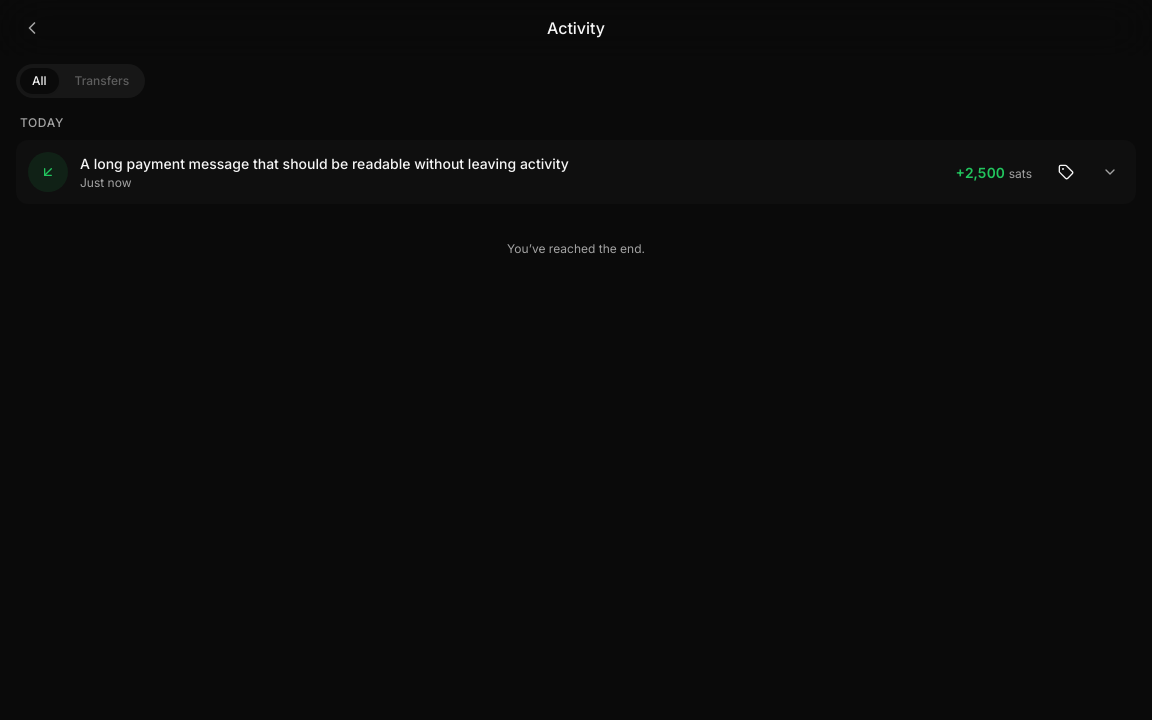
Test: ActivityScreen quick transaction information › replaces the empty icon with the selected tag and returns to it after removal
What coordinates should you click on to do the following:
click the button named "Choose tag"
I would click on:
 (1066, 172)
Its box is [1044,150,1088,194].
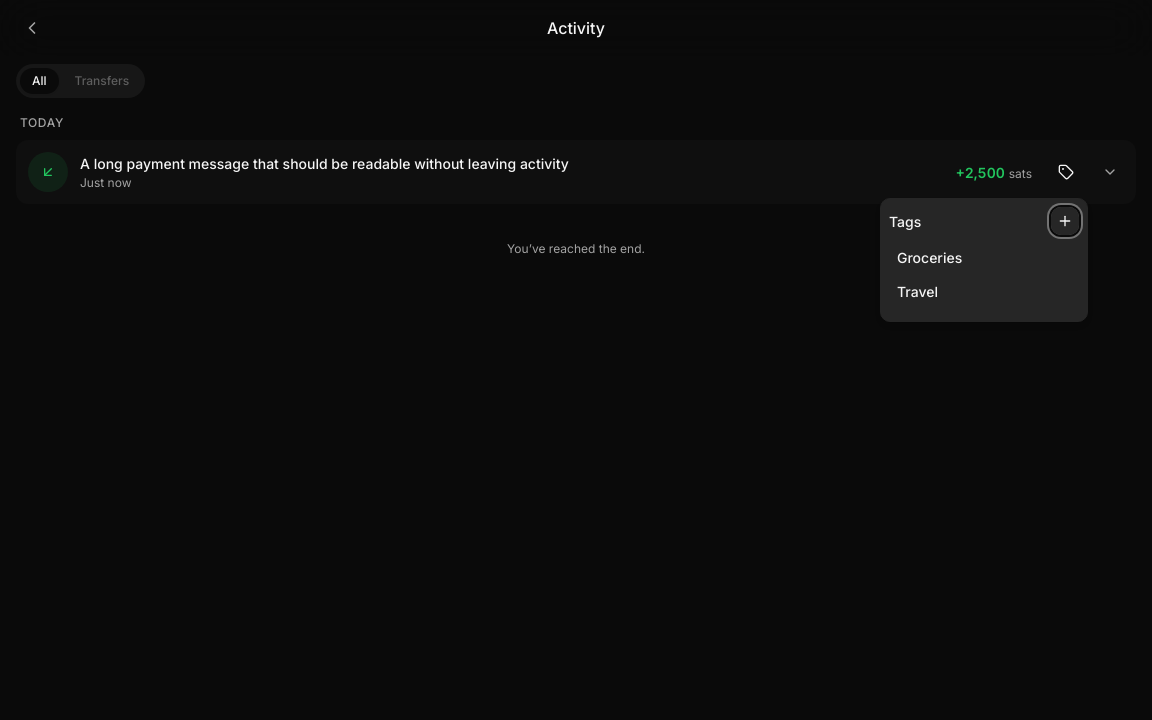
What coordinates should you click on to do the following:
click the button "Travel"
I would click on:
 (984, 291)
Its box is [889,275,1079,307].
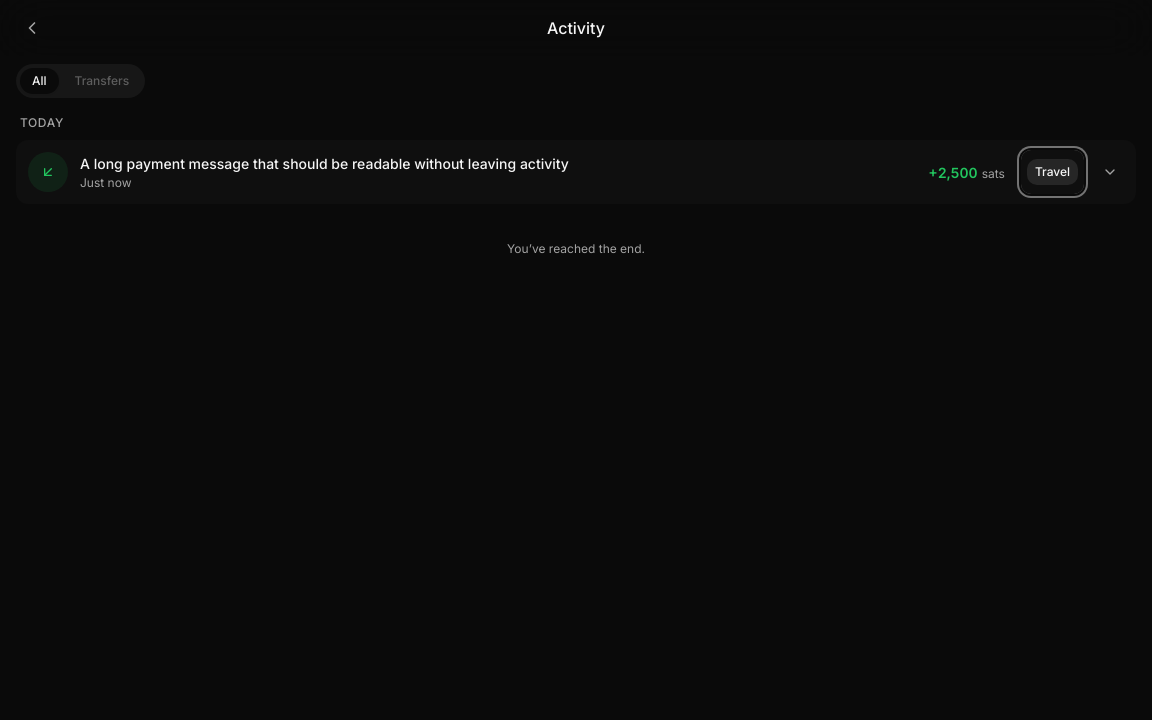
Expected: the button with aria-label "Choose tag" reads "Travel"
Expected: the text "Travel" is shown once, [1027,159,1078,185]
What coordinates should you click on to do the following:
click the button with aria-label "Choose tag"
I would click on:
 (1052, 172)
Its box is [1021,150,1084,194].
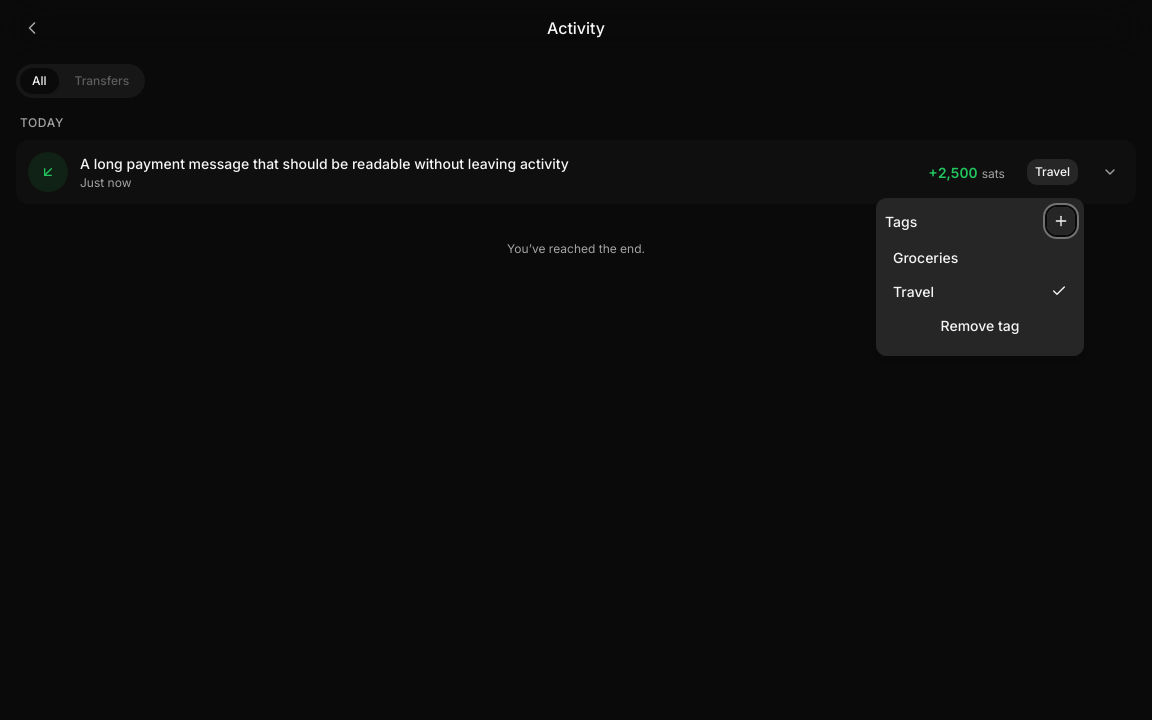
What coordinates should you click on to do the following:
click the button "Remove tag"
I would click on:
 (980, 325)
Its box is [885,309,1075,341].
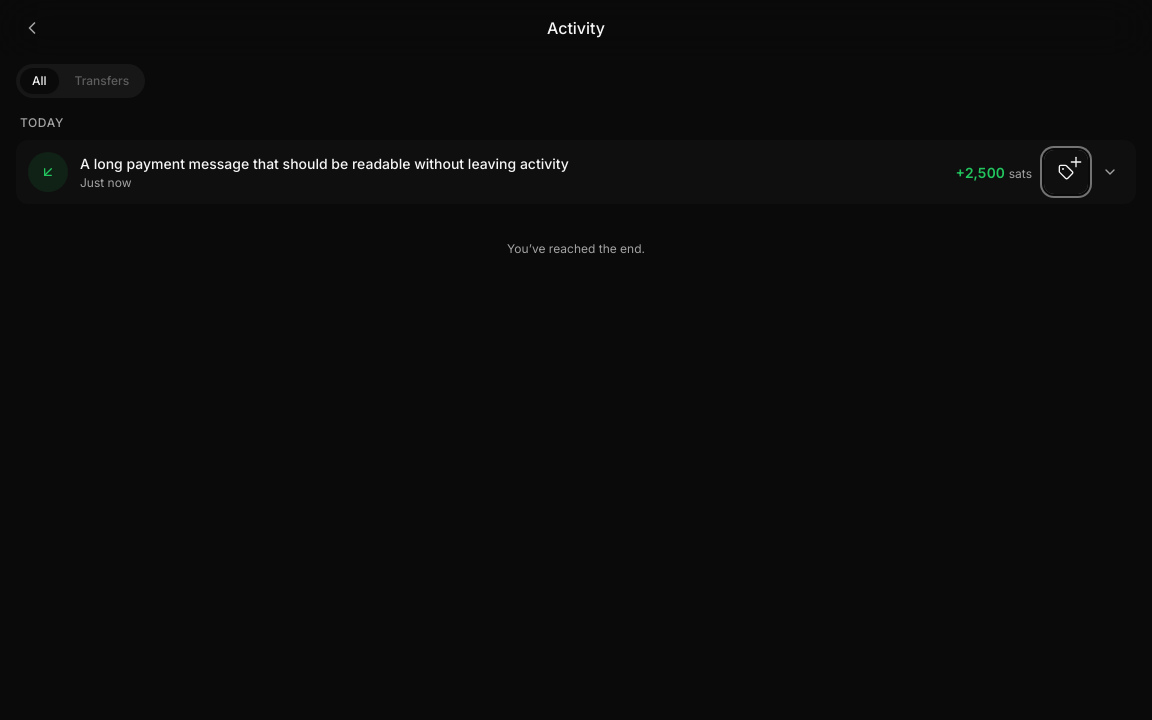
Expected: the button named "Choose tag" is empty, [1044,150,1088,194]
Expected: the text "Travel" is gone
